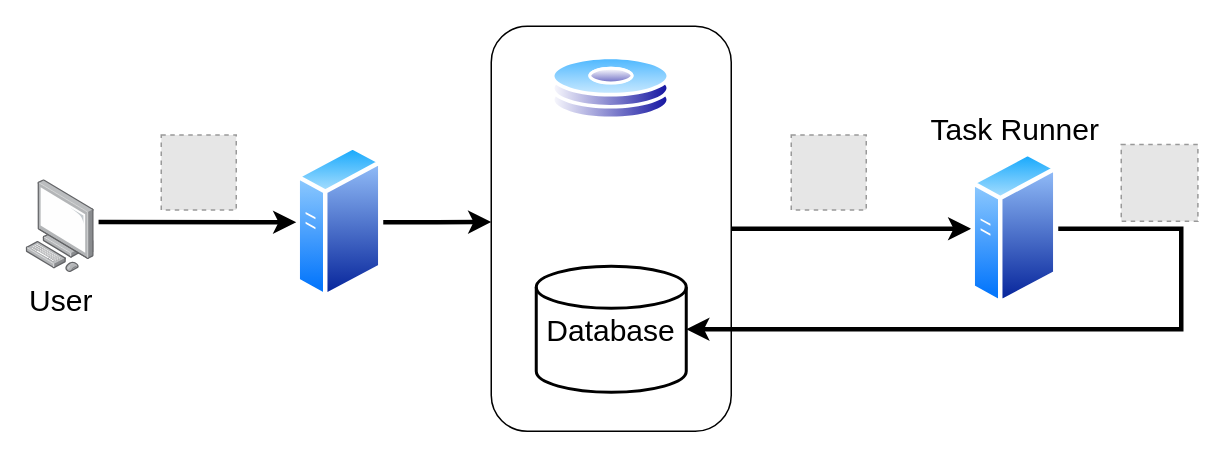
Image size: 1224x458. Some labels were removed from this diagram. Grey dashed boxes stand in for pictures. The shapes that lost their labels are listed below. From the top down, each one's centre as x and y in pixels, then its label:
At pixel 610 88: "Storage Solution".
At pixel 339 221: "Web Server".
